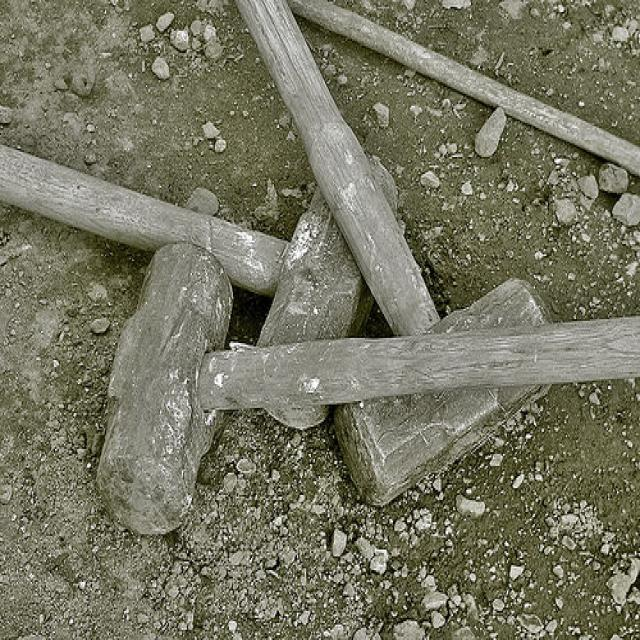hammer: (93, 230, 640, 560), (0, 62, 387, 430), (304, 0, 569, 527)
